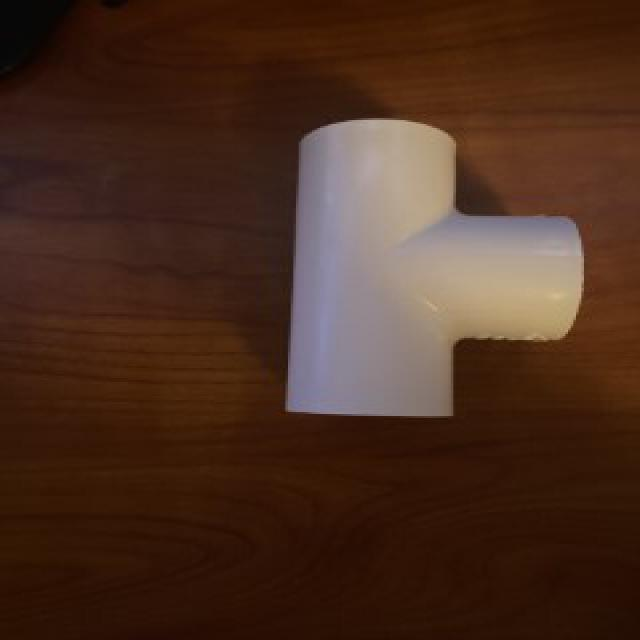T Joint: (283, 119, 586, 420)
